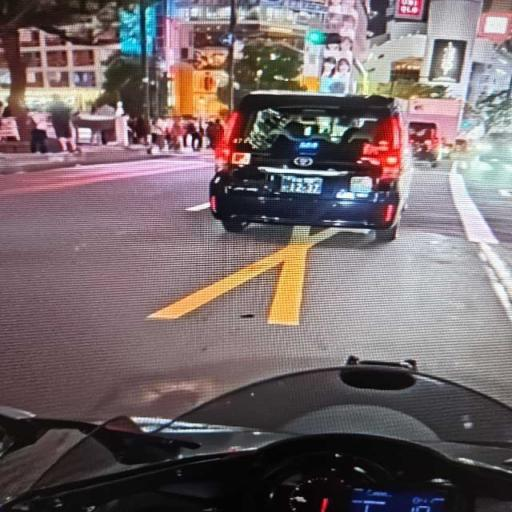car: (210, 92, 411, 241), (476, 133, 511, 169), (408, 122, 439, 161)
lane: (0, 163, 511, 417), (0, 158, 207, 196), (459, 160, 511, 244)
person: (49, 96, 75, 151), (28, 113, 47, 153), (330, 59, 351, 93), (320, 58, 335, 93), (169, 116, 184, 151), (152, 117, 167, 149), (187, 119, 201, 151), (136, 116, 150, 145), (340, 16, 356, 40), (340, 37, 353, 61), (206, 121, 217, 149), (90, 128, 103, 145), (2, 99, 13, 117), (128, 118, 135, 144), (183, 120, 189, 147), (216, 119, 223, 142), (0, 101, 4, 118)
truck: (401, 98, 463, 160)
